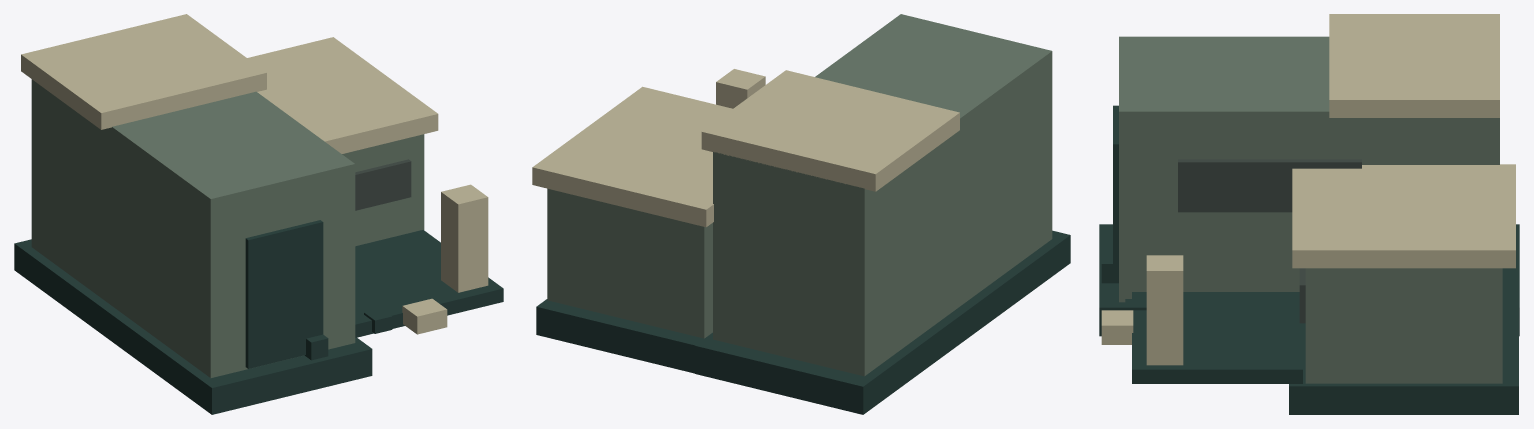
Rendered from lab-breached.glb.
The picture shows the model from 3 angles, left to right: view 1: azimuth 30°, elevation 25°; view 2: azimuth 150°, elevation 25°; view 3: azimuth 270°, elevation 25°; orthographic projection. The views are drawn at different scales.
Visible parts, largest first — view 1: lab-breached; view 2: lab-breached; view 3: lab-breached.
Boxes of the visible parts, x1=… form: lab-breached: x1=14, y1=14, x2=503, y2=414; lab-breached: x1=532, y1=14, x2=1070, y2=414; lab-breached: x1=1099, y1=14, x2=1519, y2=414.
Size of the model in its own units: 2.99 by 1.99 by 3.2.
